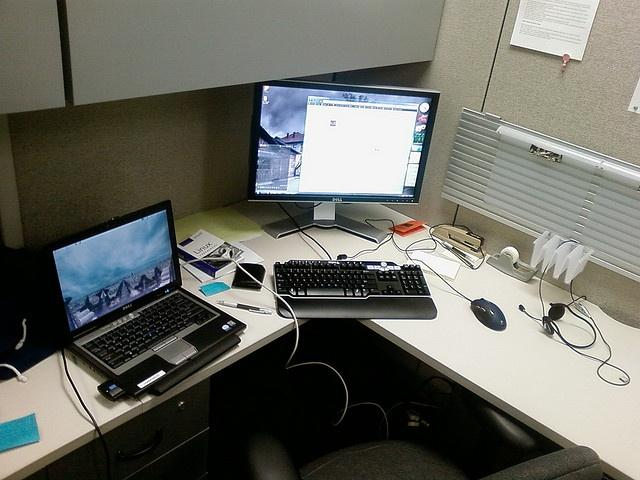AIO PC-Monitor-TV: (247, 79, 441, 215)
